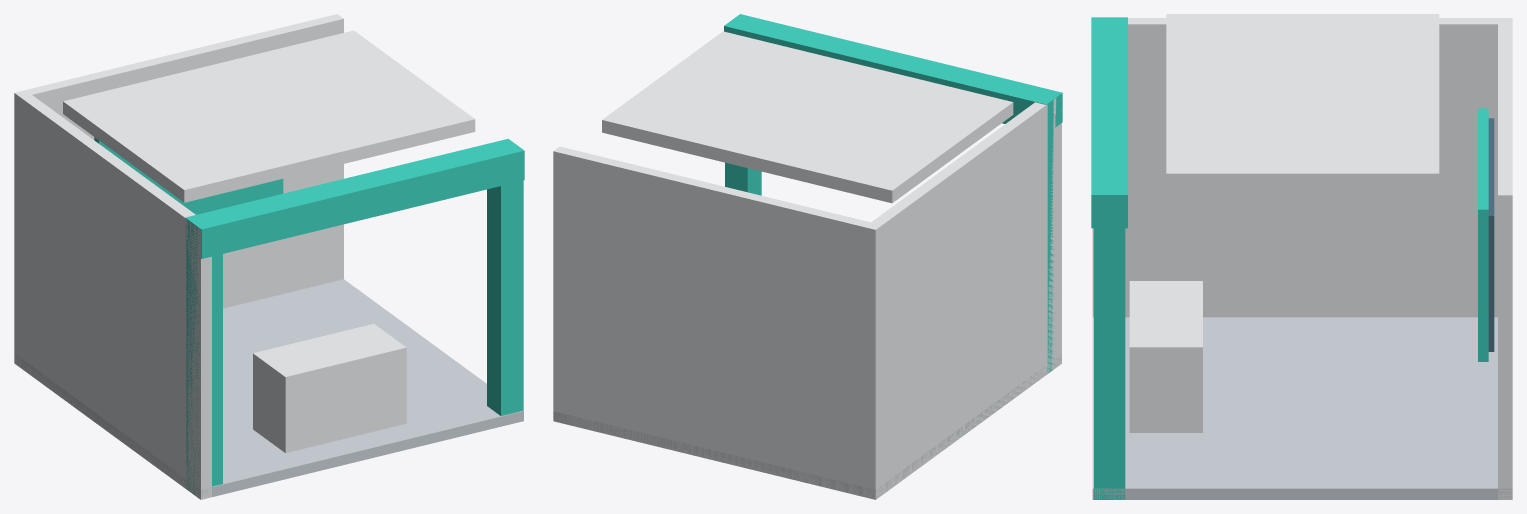
3 views of the same model, side by side, from view 1: azimuth 30°, elevation 25°; view 2: azimuth 150°, elevation 25°; view 3: azimuth 270°, elevation 25° (orthographic). The views are drawn at different scales.
Parts seen in each view (by area): view 1: Exhibition Booth Concept; view 2: Exhibition Booth Concept; view 3: Exhibition Booth Concept.
Boxes of the visible parts, <box> form: Exhibition Booth Concept: <box>14,14,524,499</box>; Exhibition Booth Concept: <box>553,14,1062,499</box>; Exhibition Booth Concept: <box>1091,14,1512,499</box>.
Bounding box in the file's own units: 4 × 3.34 × 4.02.
